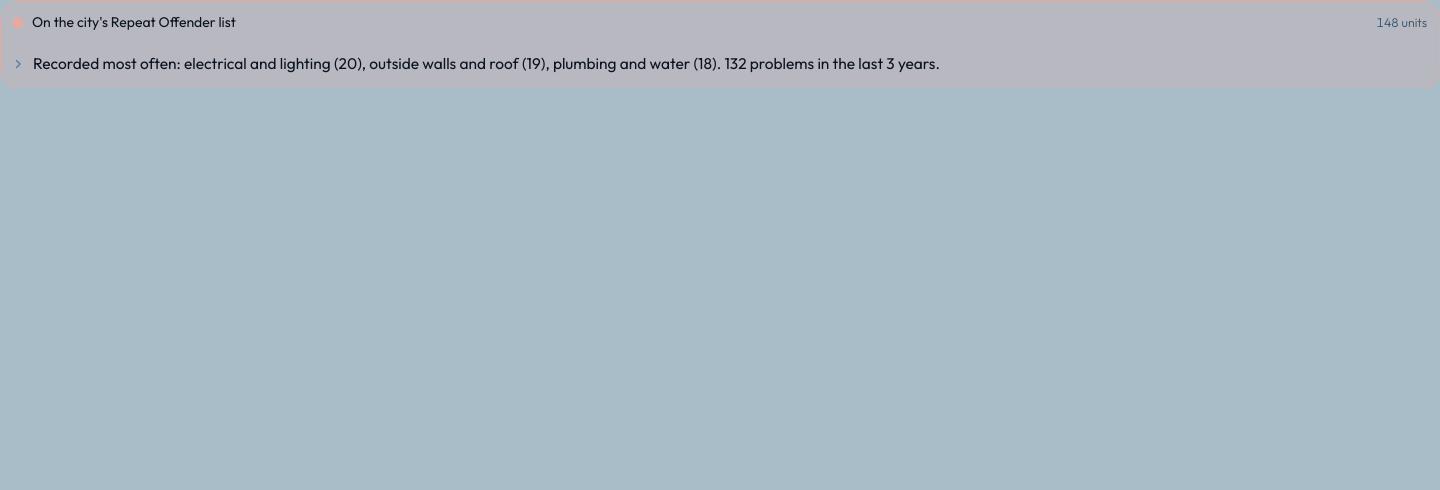
shows six kinds, then all of them in place on request, with focus on the list it opened
The width and height of the screenshot is (1440, 490).
Click the button: (720, 64) [5,42,1435,85]
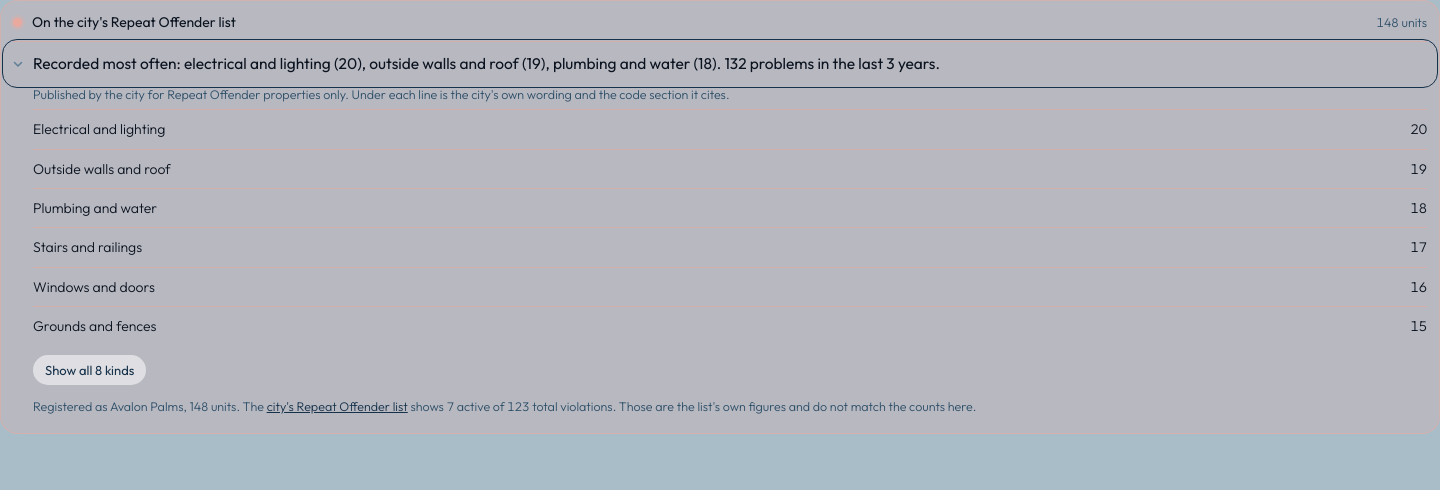
Click the button "Show all 8 kinds": (90, 370) [33,355,146,385]
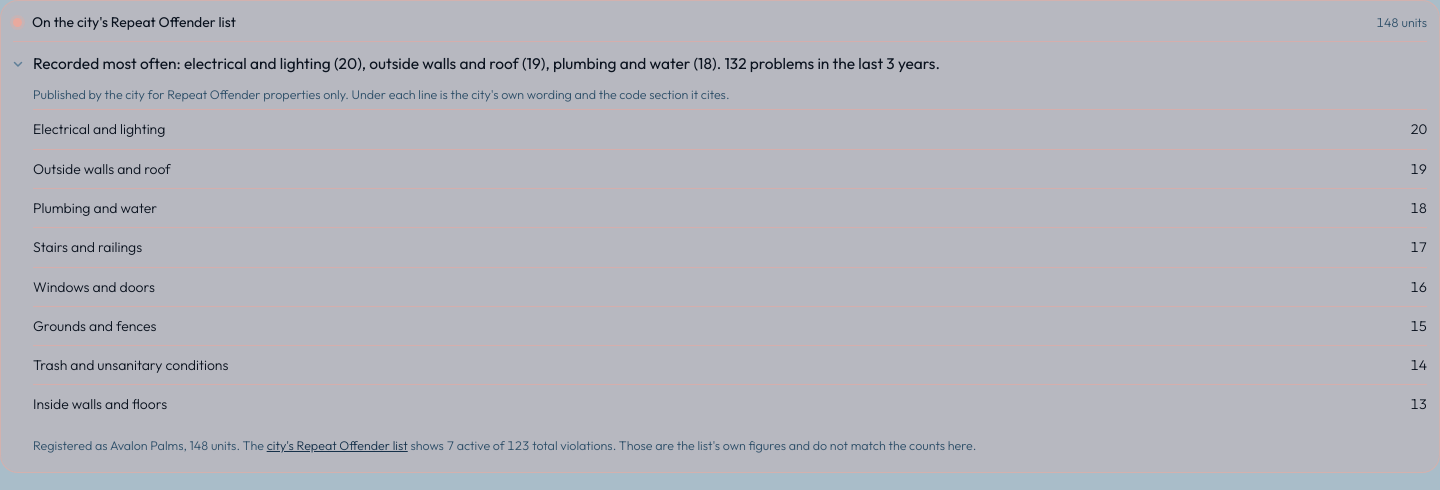
Check: the button "Show all" is gone
